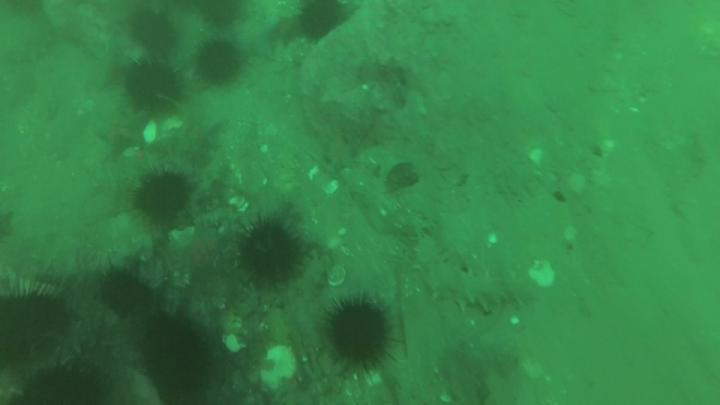echinus: (144, 317, 209, 386), (2, 294, 66, 364), (330, 300, 388, 367), (239, 223, 300, 283), (125, 63, 177, 116), (135, 173, 190, 222), (23, 369, 96, 405), (98, 270, 148, 318), (126, 13, 175, 55), (195, 41, 241, 83), (303, 2, 340, 43), (200, 2, 238, 28)
holothurian: (417, 234, 528, 312)
scallop: (327, 266, 348, 290)
starfish: (181, 226, 230, 275), (97, 112, 146, 159), (182, 118, 224, 150), (323, 138, 356, 172), (272, 14, 303, 42)
